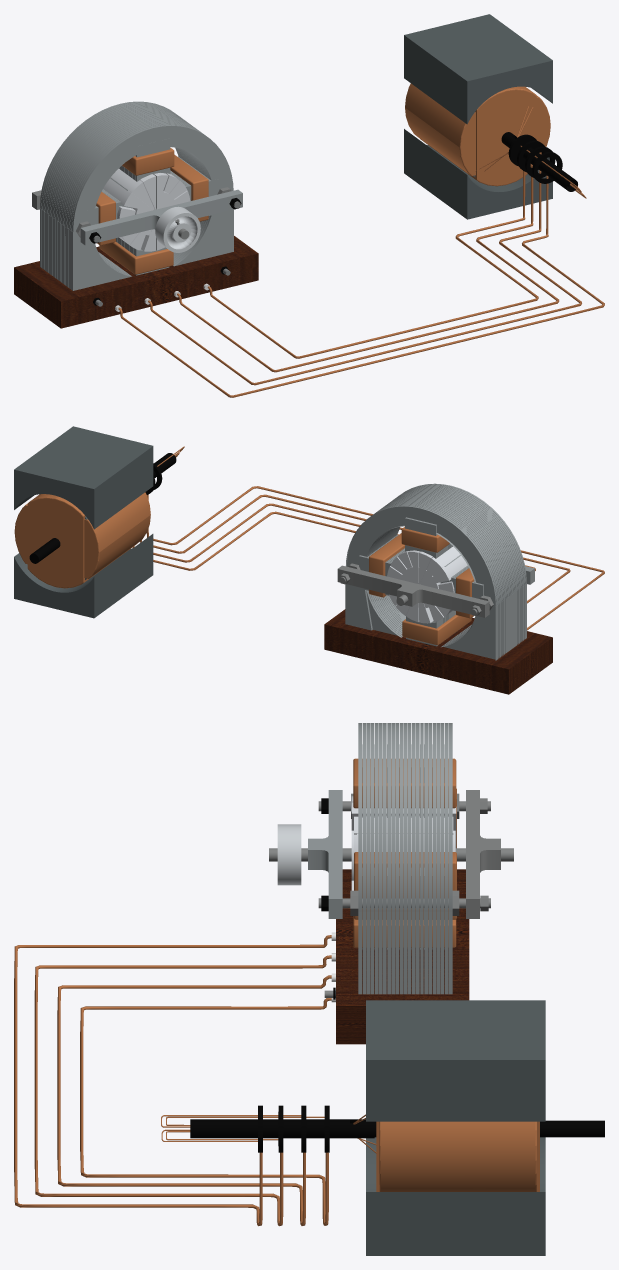
Rendered from ElektromagnetniMotor.glb.
The picture shows the model from 3 angles, top to bottom: view 1: azimuth 30°, elevation 25°; view 2: azimuth 150°, elevation 25°; view 3: azimuth 270°, elevation 25°; orthographic projection. The views are drawn at different scales.
Parts seen in each view (by area): view 1: Box26, Box01_ncl1_1, Box01, Line22, Tube52, Tube51, Box28, Cylinder11, ChamferBox04, Empty.001, ChamferBox03, ChamferBox06 (+2 smaller); view 2: Box26, Box01_ncl1_1, Box01, Tube52, Tube51, Line22, Box28, ChamferBox01, ChamferBox04, ChamferBox06, ChamferBox03, Cylinder14 (+1 smaller); view 3: Box01_ncl1_1, Box26, Line22, Tube51, Box01, Cylinder14, ChamferBox01, Box28, ChamferBox06, ChamferBox03, Cylinder11, Line02 (+2 smaller).
Boxes of the visible parts, <box> form: Box26: <box>40,101,242,290</box>; Box01_ncl1_1: <box>404,14,552,219</box>; Box01: <box>14,236,258,328</box>; Line22: <box>118,164,604,397</box>; Tube52: <box>420,86,536,186</box>; Tube51: <box>405,83,550,175</box>; Box28: <box>103,168,190,251</box>; Cylinder11: <box>155,206,200,252</box>; ChamferBox04: <box>99,241,173,274</box>; Empty.001: <box>508,134,562,183</box>; ChamferBox03: <box>122,147,174,175</box>; ChamferBox06: <box>170,154,208,221</box>; Box26: <box>345,483,534,660</box>; Box01_ncl1_1: <box>14,426,153,618</box>; Box01: <box>324,609,552,694</box>; Tube52: <box>27,494,136,588</box>; Tube51: <box>14,492,150,578</box>; Line22: <box>132,486,604,630</box>; Box28: <box>387,546,467,623</box>; ChamferBox01: <box>337,565,489,617</box>; ChamferBox04: <box>402,615,471,645</box>; ChamferBox06: <box>369,533,404,597</box>; ChamferBox03: <box>401,527,449,552</box>; Cylinder14: <box>29,453,176,563</box>; Box01_ncl1_1: <box>366,1000,545,1255</box>; Box26: <box>308,723,452,994</box>; Line22: <box>14,935,331,1226</box>; Tube51: <box>379,1121,536,1191</box>; Box01: <box>336,869,469,1044</box>; Cylinder14: <box>190,1119,604,1138</box>; ChamferBox01: <box>466,790,500,918</box>; Box28: <box>351,796,456,890</box>; ChamferBox06: <box>354,852,456,919</box>; ChamferBox03: <box>353,758,456,808</box>; Cylinder11: <box>277,824,301,885</box>; Line02: <box>161,1114,376,1153</box>.
Size of the model in its own units: 12.5 by 4.05 by 8.93.
11 materials, 1 textured.
